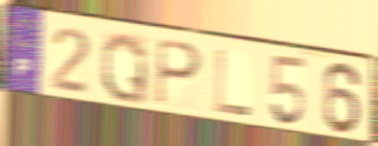2: (49, 26, 92, 96)
5: (269, 54, 306, 127)
6: (321, 61, 362, 136)
L: (213, 47, 253, 119)
P: (154, 36, 205, 108)
Q: (99, 30, 149, 107)
